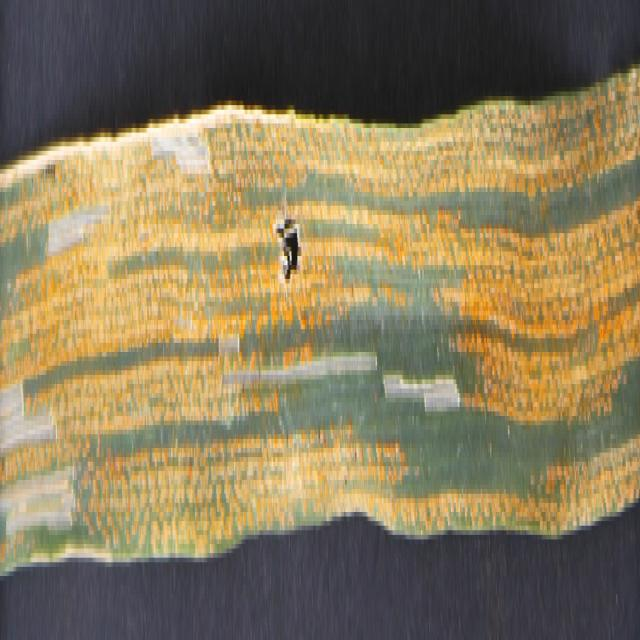leaf rust: (0, 68, 640, 566)
